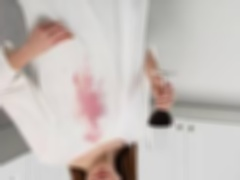wine: (69, 61, 108, 143)
